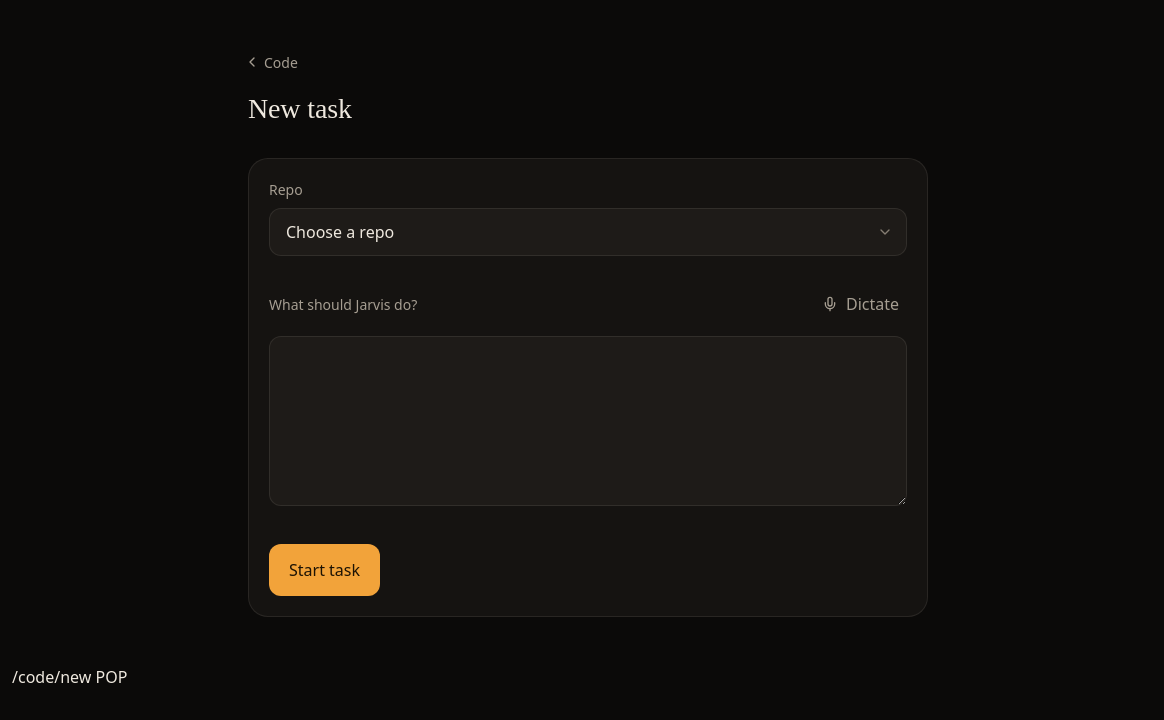
Code: new task › starts the task and opens it in place of the form
Select "acme/shop-admin" in the dropdown labelled "Repo" at (588, 232), box [269, 208, 907, 256]
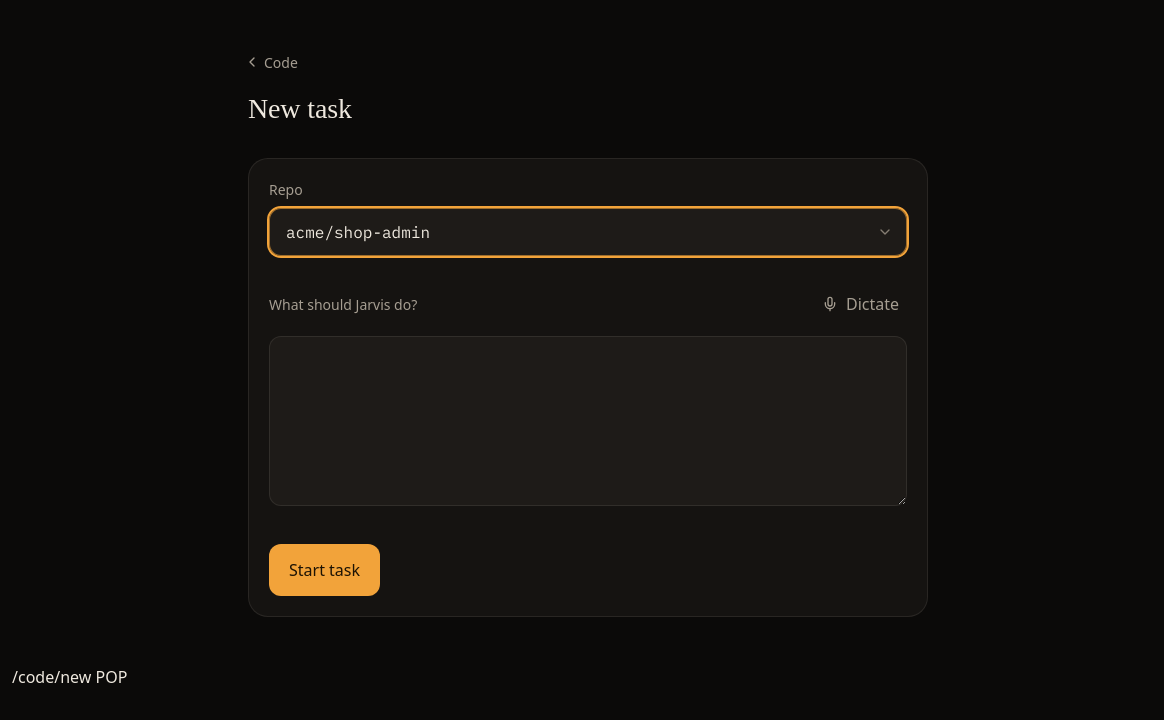
Type "  Add a holiday banner  " into the text box labelled "What should Jarvis do?" at (588, 421), box [269, 336, 907, 506]
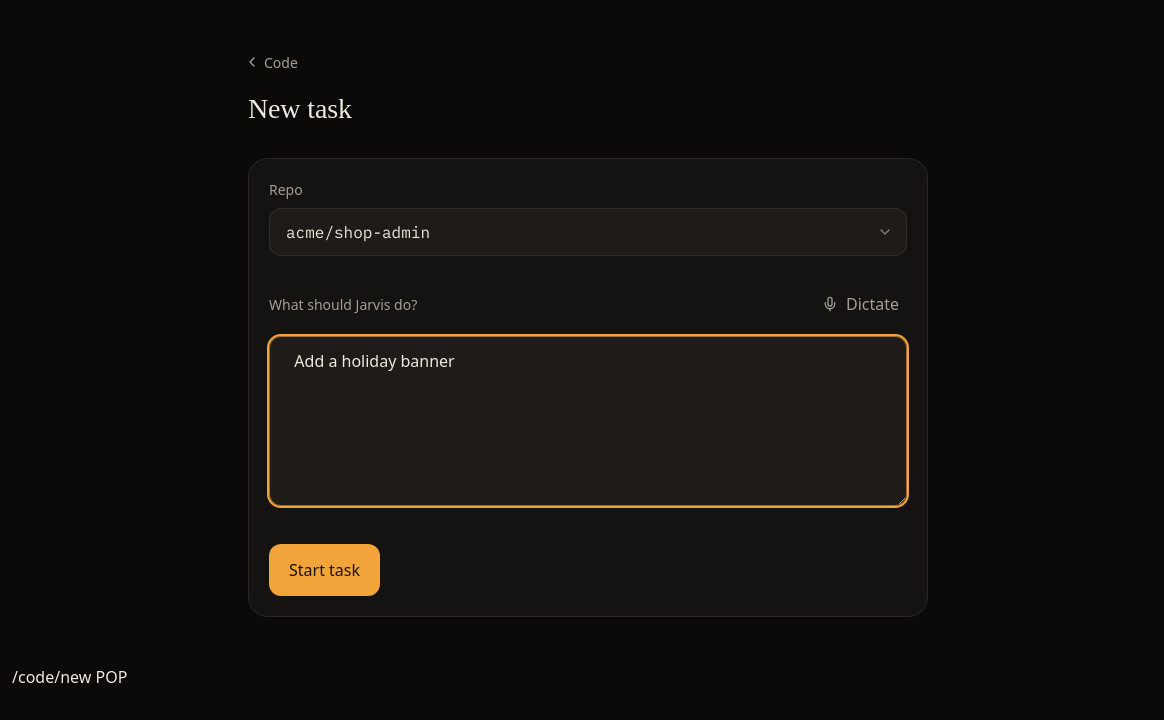
Click the button "Start task" at (324, 570), box [269, 544, 380, 596]
(page scrolled)
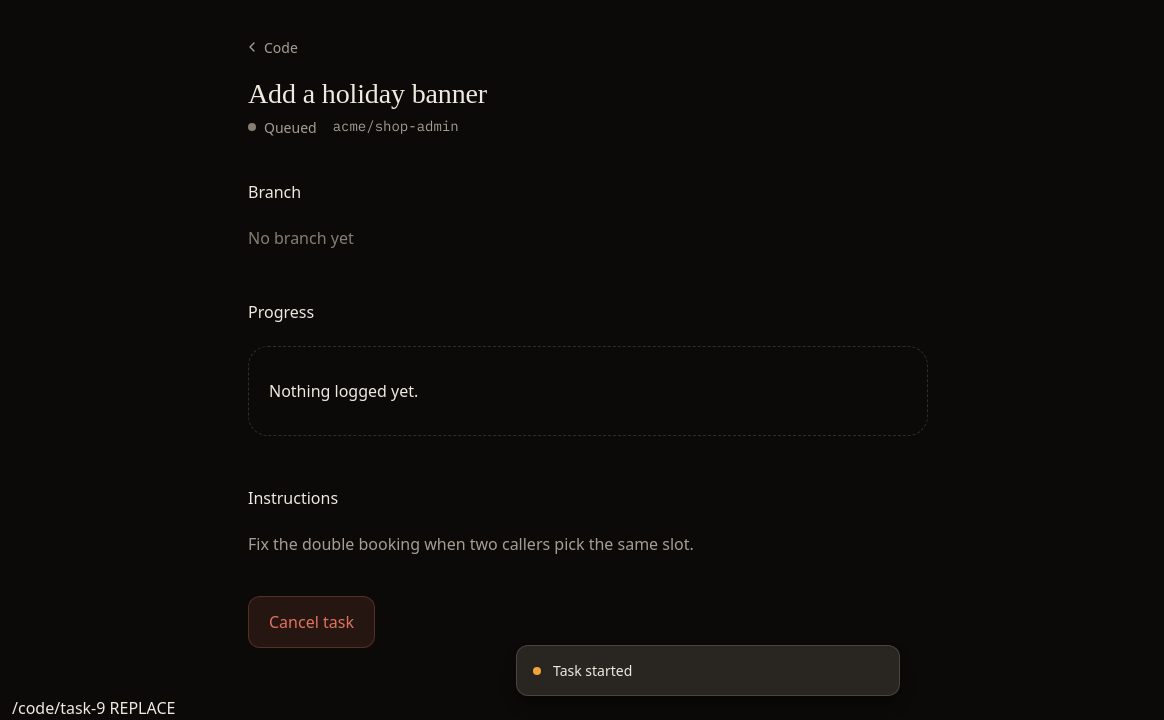
Result: the heading "Add a holiday banner" is shown at [248, 77, 487, 111]
Result: the text "Task started" is shown at [553, 661, 632, 680]
Result: the text with test id "location" reads "/code/task-9 REPLACE" at [12, 696, 175, 718]
